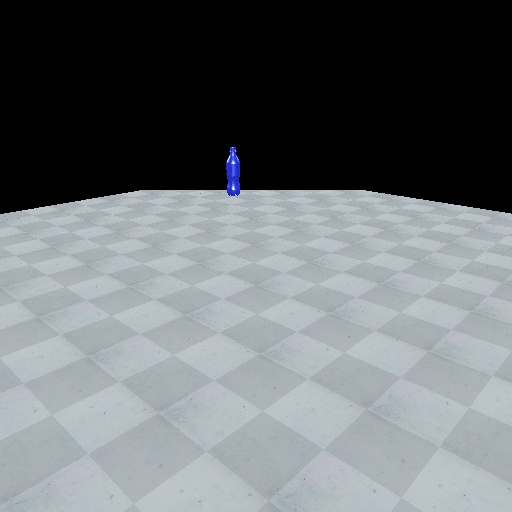bottle: (223, 144, 244, 200)
